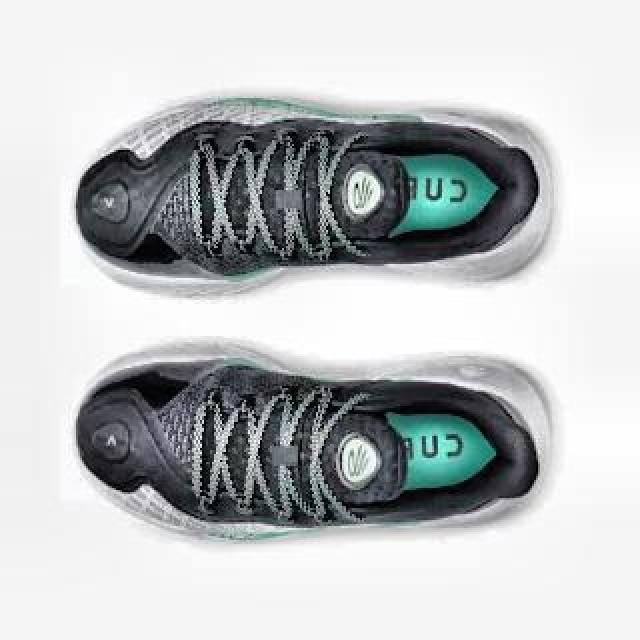shoe: (74, 92, 558, 300), (73, 335, 555, 541)
